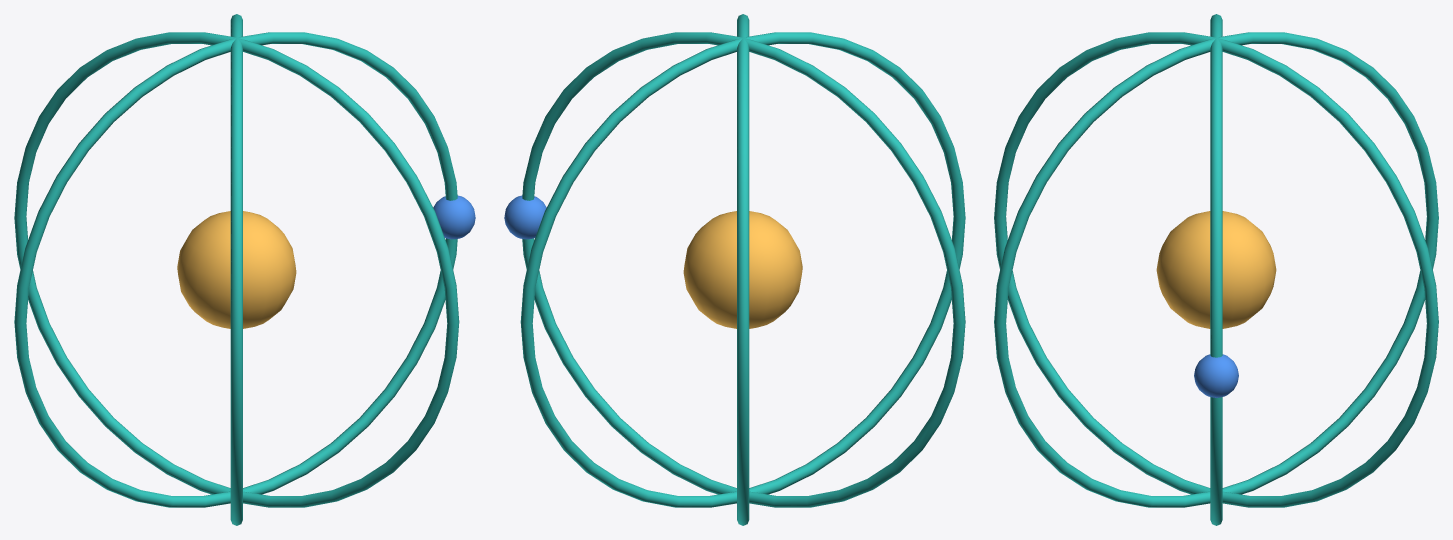
The model's file is bohr-atom-lite.glb.
3 views of the same model, side by side, from view 1: azimuth 30°, elevation 25°; view 2: azimuth 150°, elevation 25°; view 3: azimuth 270°, elevation 25° (orthographic).
Visible parts, largest first — view 1: Nucleus; view 2: Nucleus; view 3: Nucleus.
Part boxes in pixels (left/top/right/bottom): Nucleus: left=14, top=14, right=475, bottom=525; Nucleus: left=504, top=14, right=965, bottom=525; Nucleus: left=994, top=14, right=1438, bottom=525.
Size of the model in its own units: 2.12 by 2.05 by 1.78.
